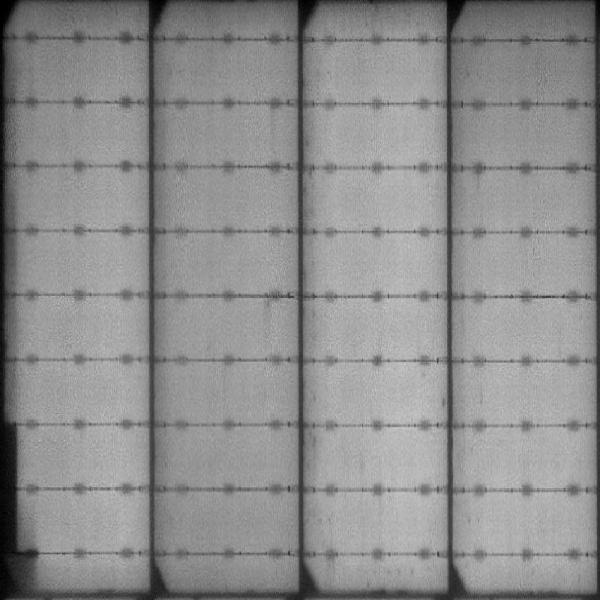black_border: (5, 419, 23, 553)
